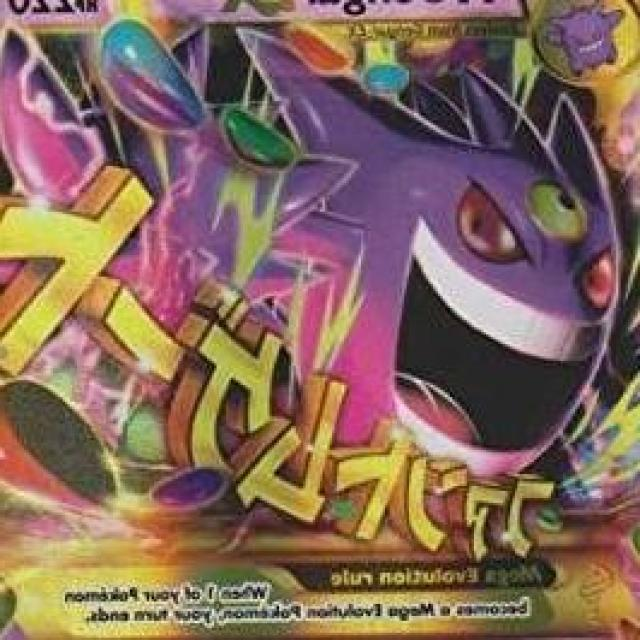Gengar: (263, 38, 615, 466)
